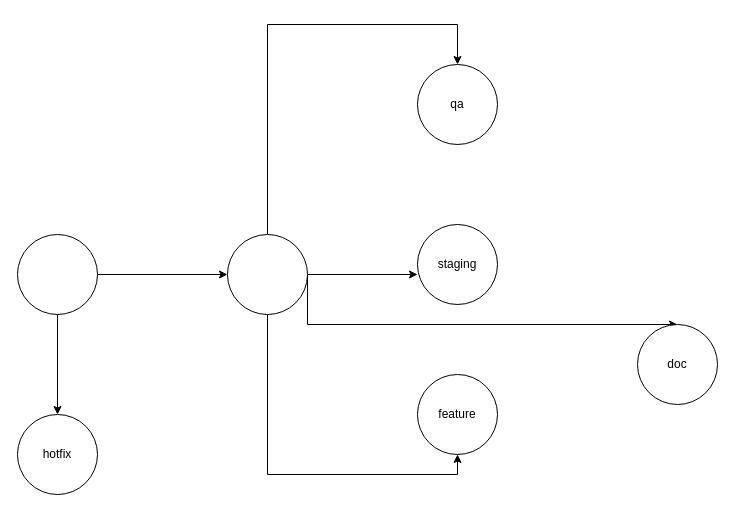
Image size: 735x512. Some labels were removed from this diagram. Each missing label, with the box of its shape:
develop: (226, 234, 308, 314)
main: (16, 234, 98, 314)
